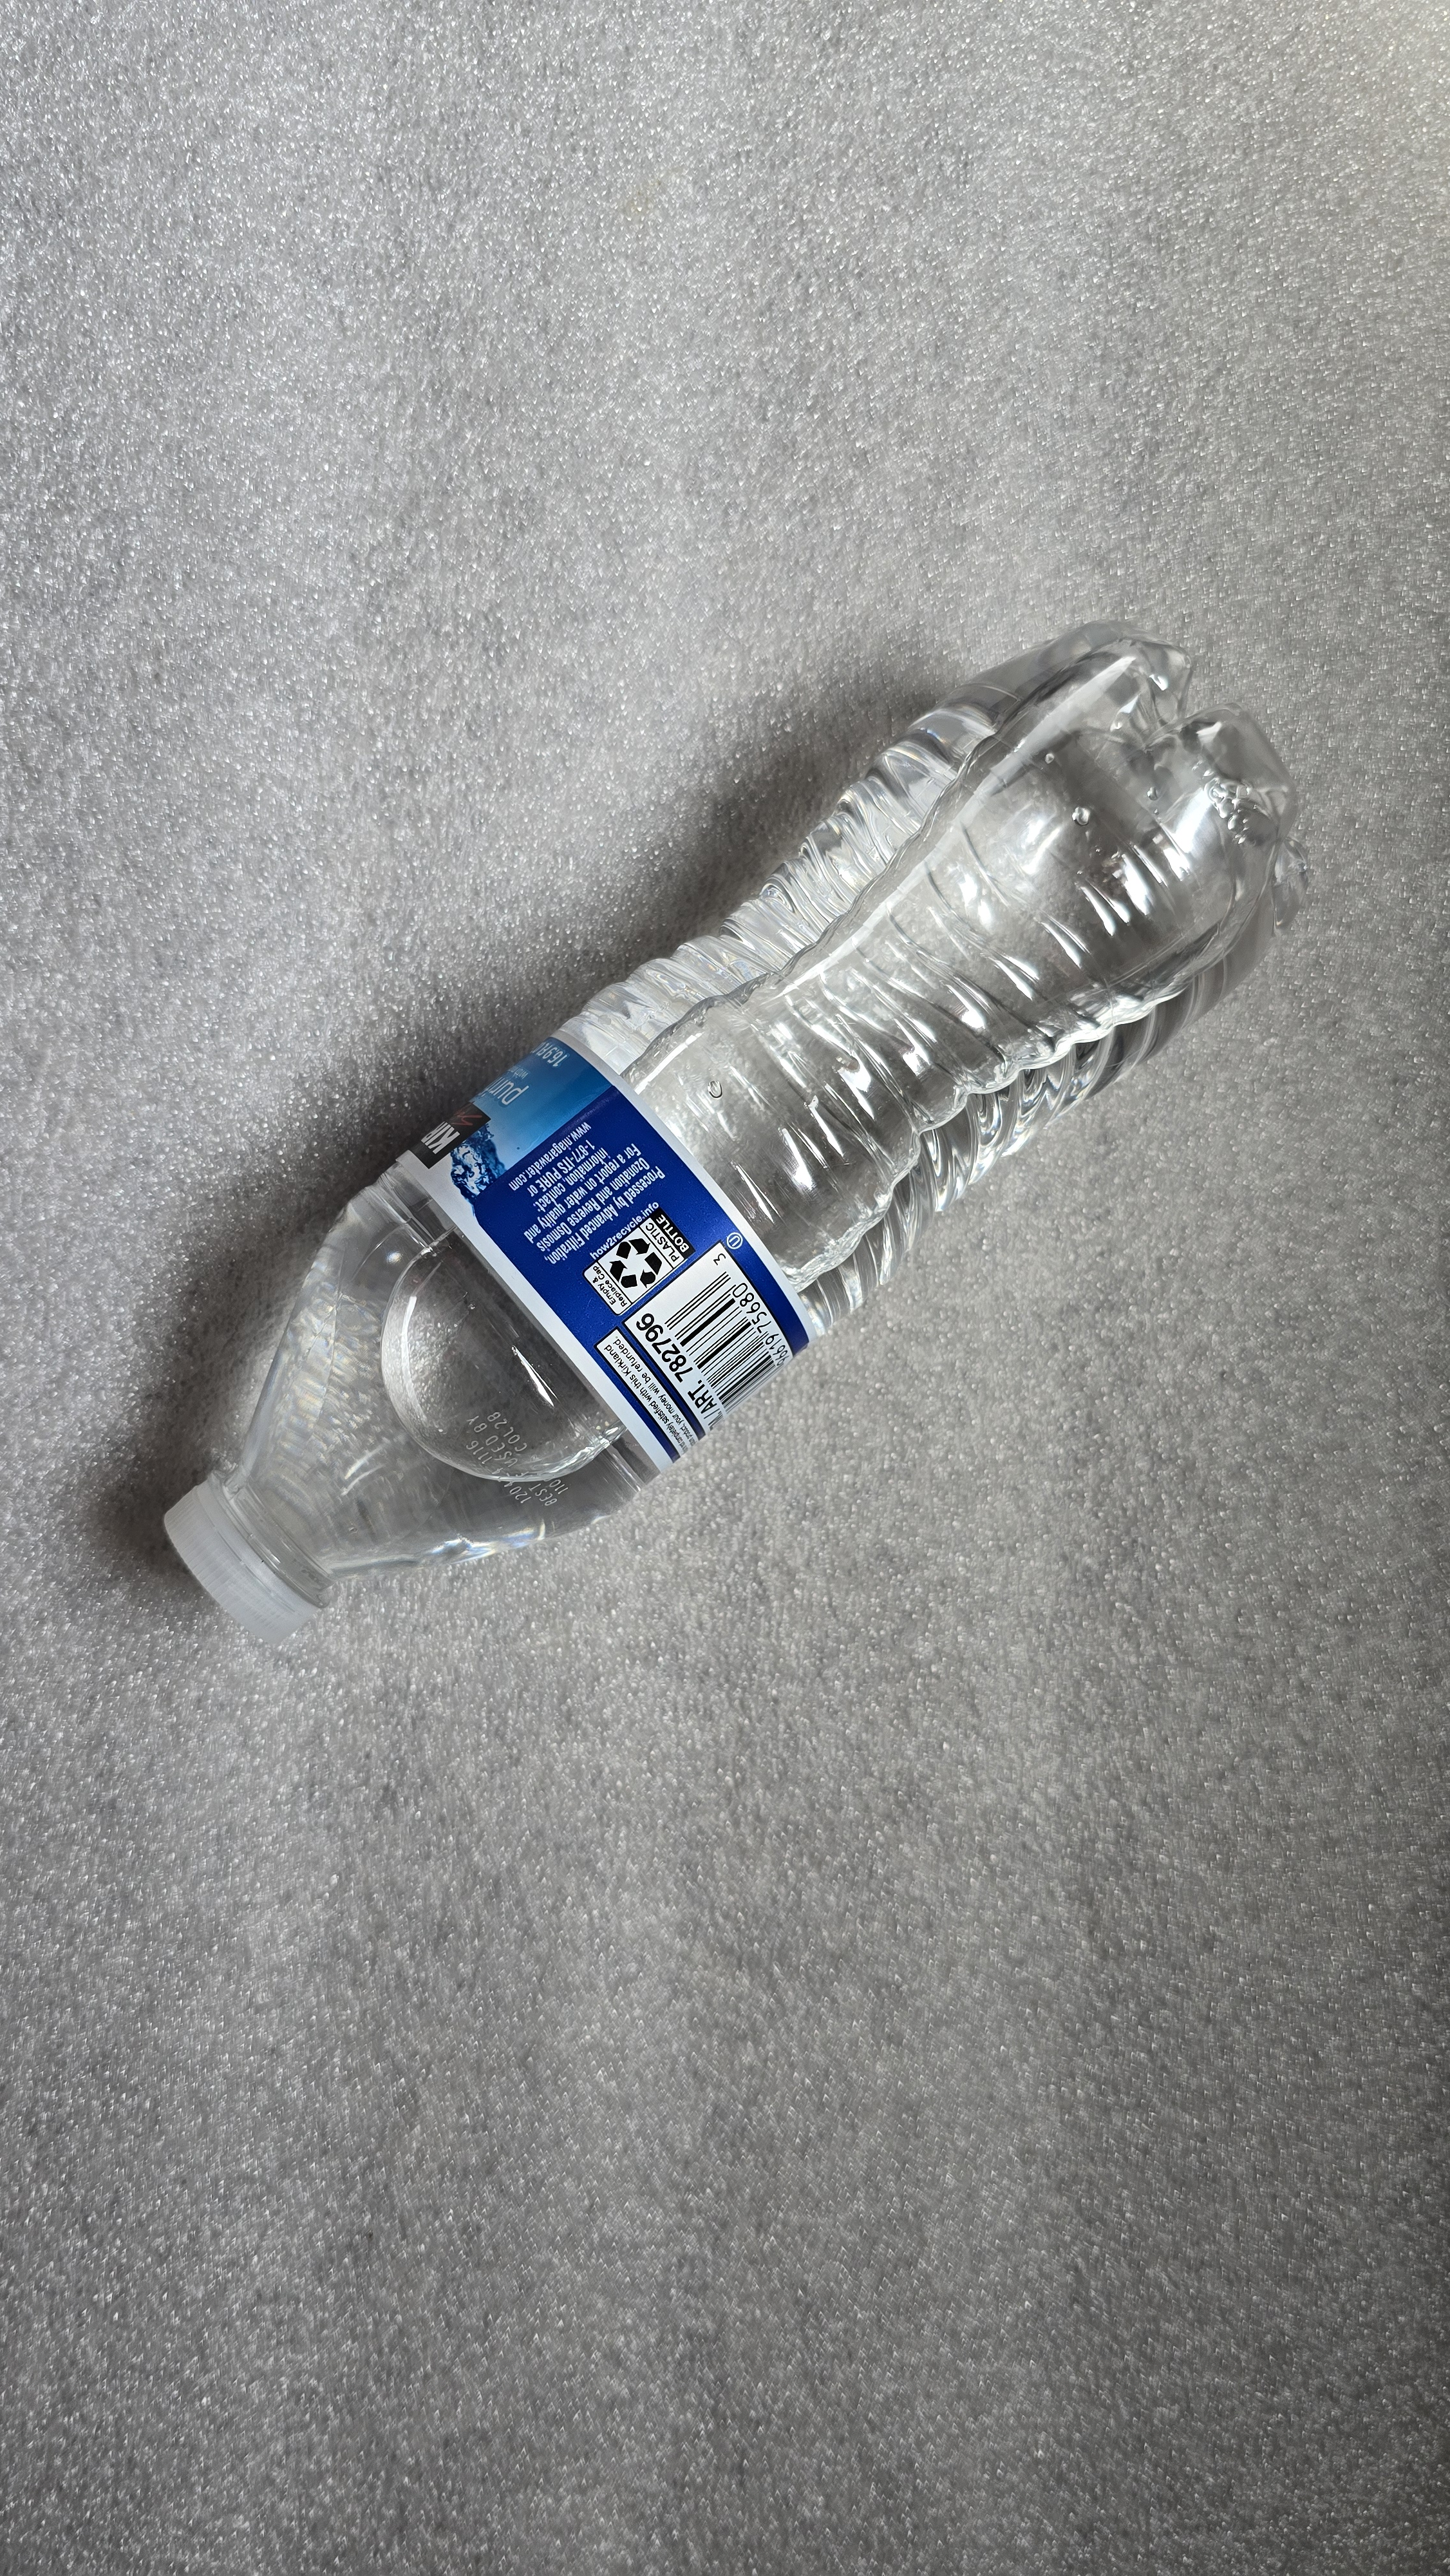bottle: (147, 607, 1337, 1661)
